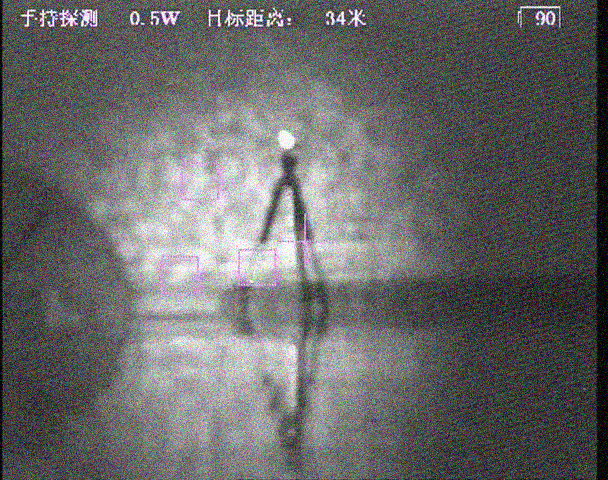my: (275, 129, 298, 151)
